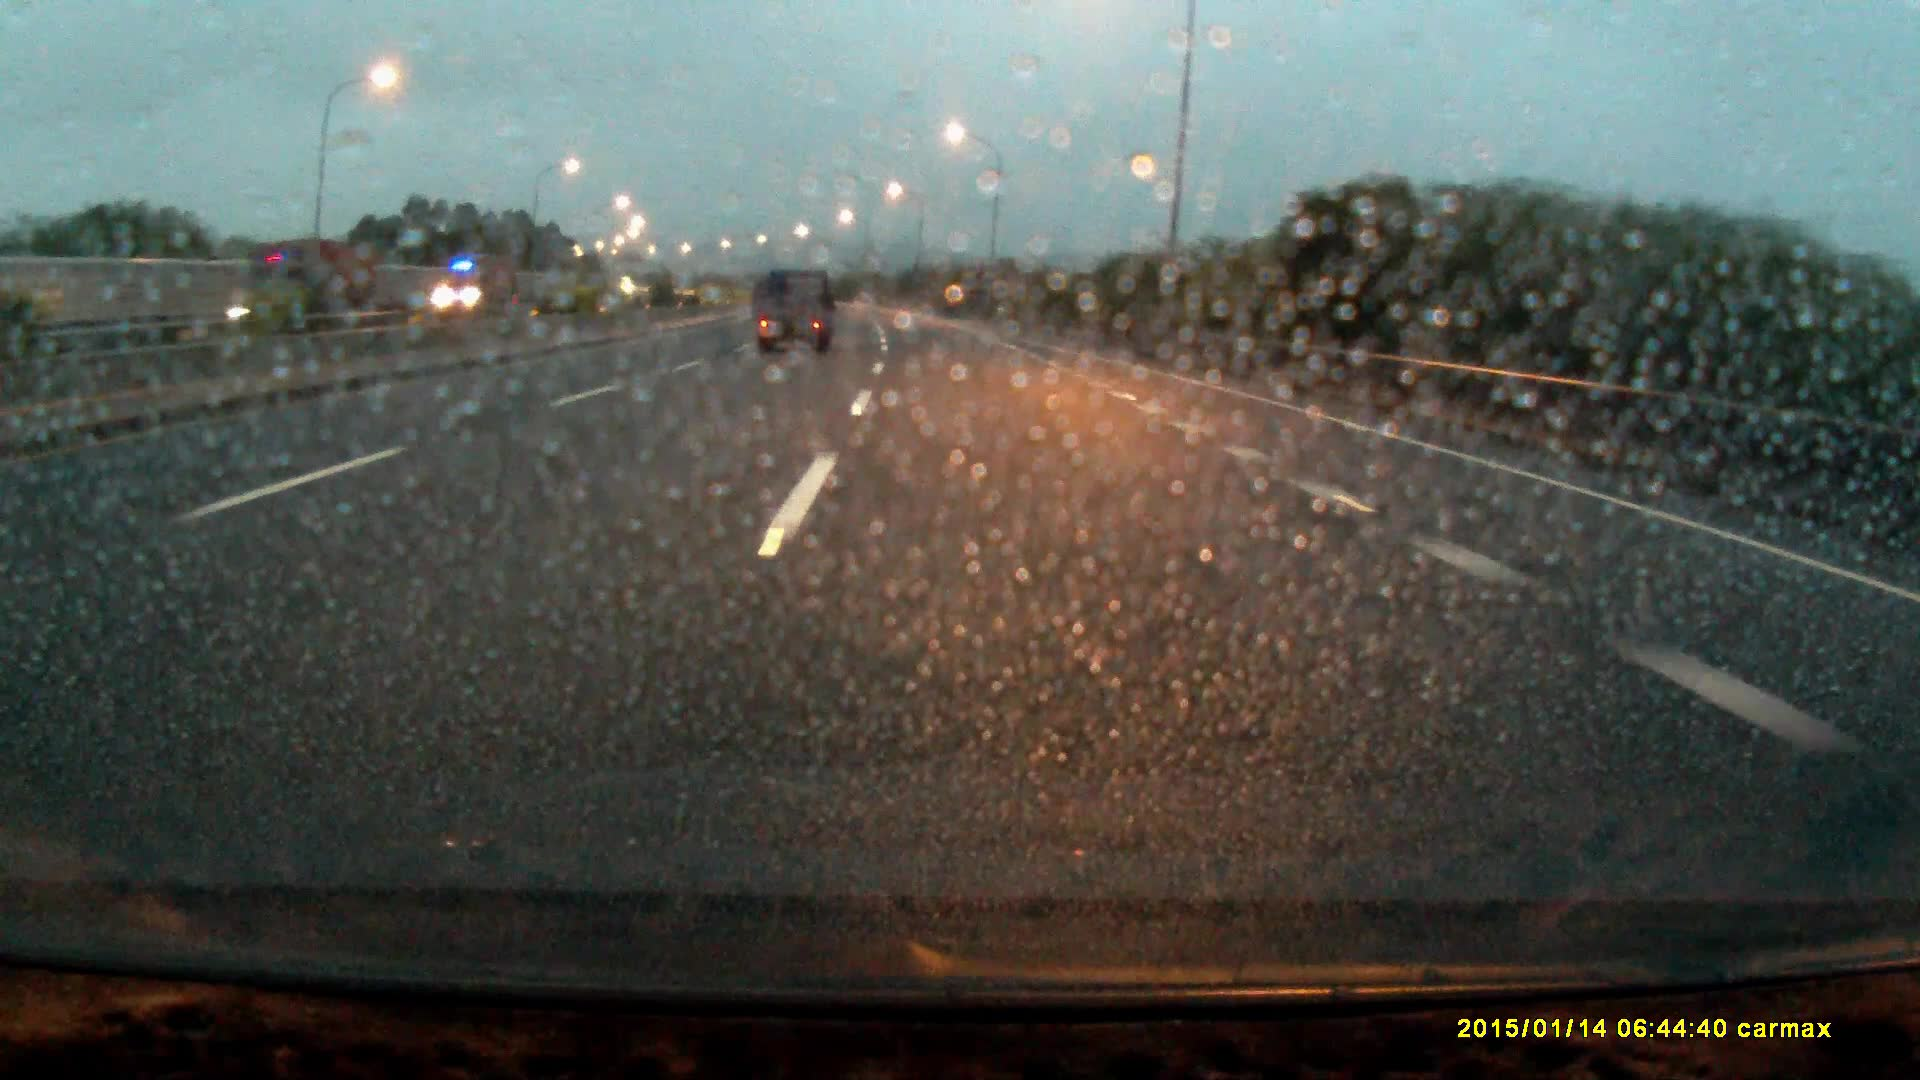vehicle: (222, 245, 375, 330), (754, 272, 833, 361), (431, 251, 514, 316)
